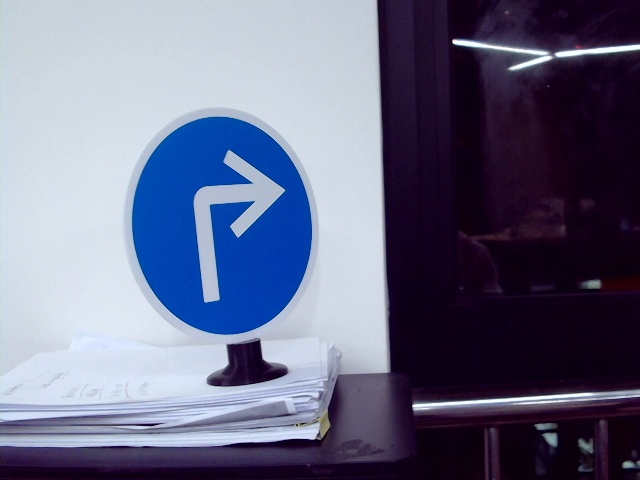turn_right: (179, 146, 284, 302)
